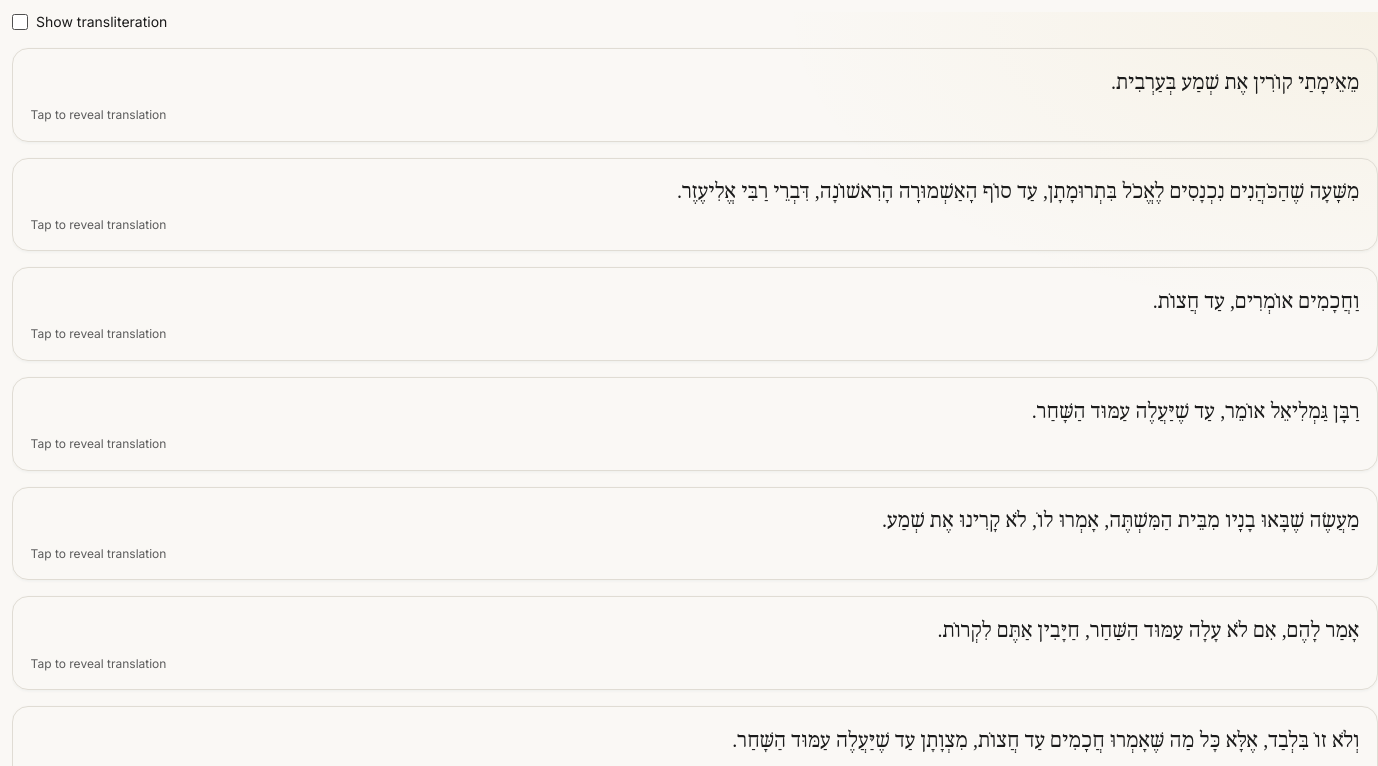
it: BilingualReader › toggles transliteration
Click the checkbox labelled "Show transliteration": click(20, 22) [12,14,28,30]
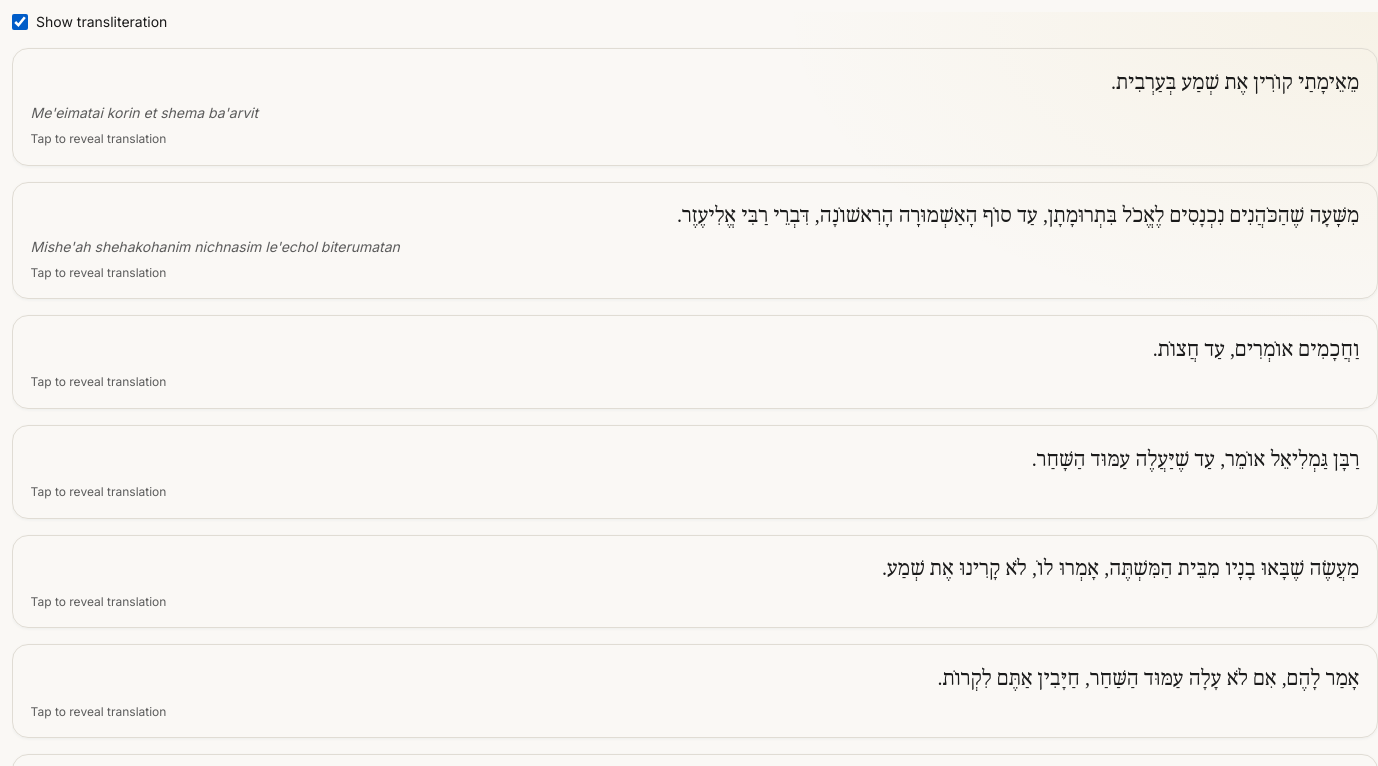
Expected: the text "Me'eimatai" is shown, [31,104,258,121]
